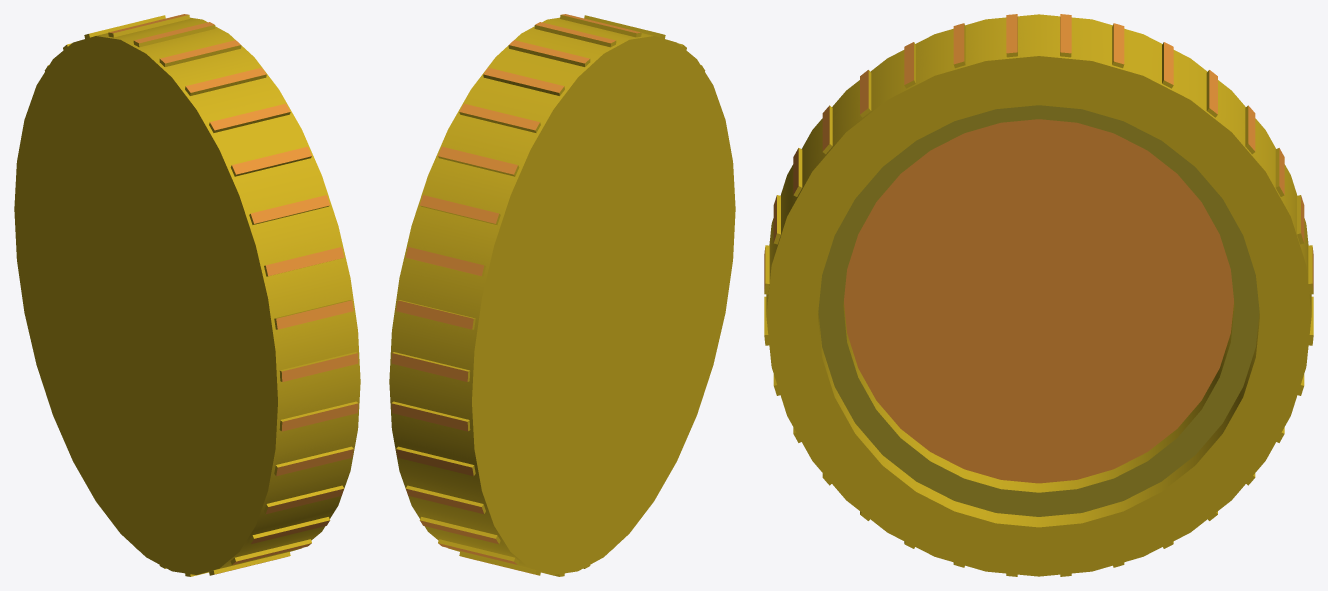
Rendered from Coin 2.fbx.
3 renders of one model, left to right at view 1: azimuth 30°, elevation 25°; view 2: azimuth 150°, elevation 25°; view 3: azimuth 270°, elevation 25°, orthographic. The views are drawn at different scales.
Parts seen in each view (by area): view 1: Cylinder, Cylinder.003; view 2: Cylinder, Cylinder.003; view 3: Cylinder.001, Cylinder, Cylinder.002, Cylinder.003.
Boxes of the visible parts, x1,y1,x2,y2 form: Cylinder: [14, 15, 360, 576]; Cylinder.003: [108, 14, 358, 574]; Cylinder: [389, 15, 735, 576]; Cylinder.003: [391, 14, 641, 574]; Cylinder.001: [844, 119, 1233, 483]; Cylinder: [764, 14, 1313, 576]; Cylinder.002: [818, 105, 1259, 516]; Cylinder.003: [764, 14, 1313, 291].
Size of the model in its own units: 21.71 by 128 by 121.
